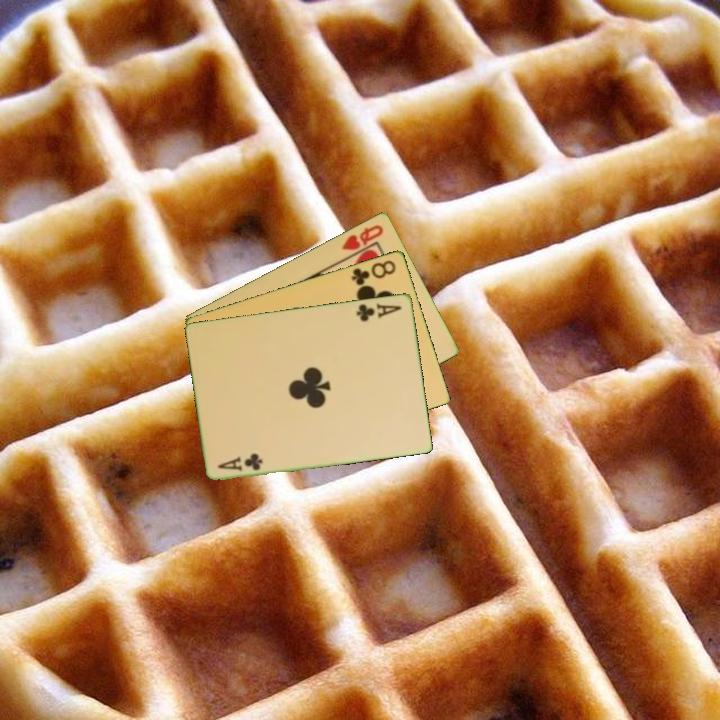8c: (348, 256, 399, 288)
Ac: (353, 299, 404, 324), (214, 449, 265, 474)
Qh: (338, 221, 386, 253)
